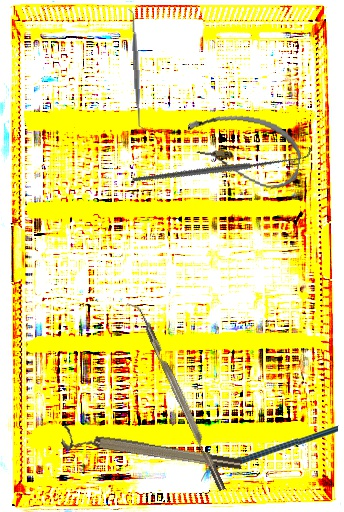Cannula: (179, 106, 307, 194)
Chopper: (125, 297, 226, 496), (200, 422, 339, 487)
Fixation Ring: (60, 424, 243, 481)
Hook Surgical: (129, 88, 314, 242)
Spatula Surgical: (126, 8, 147, 132)
